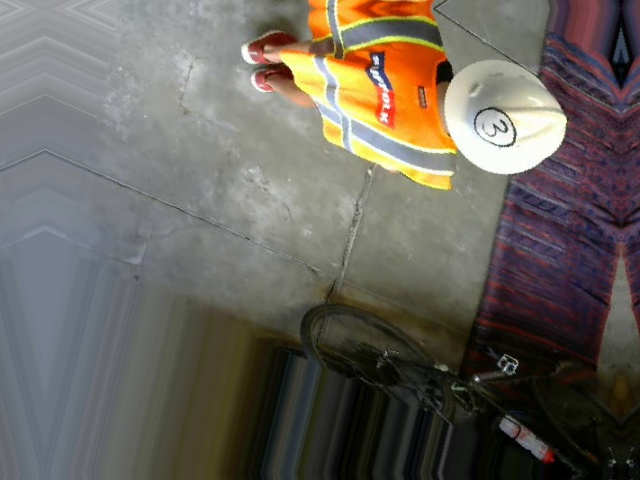three: (469, 99, 521, 153)
